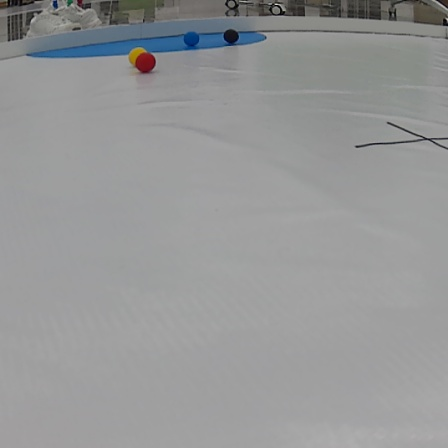black: (223, 28, 240, 45)
blue: (182, 26, 201, 47)
blue_base: (24, 34, 291, 60)
red: (135, 53, 158, 73)
yellow: (127, 46, 146, 63)
